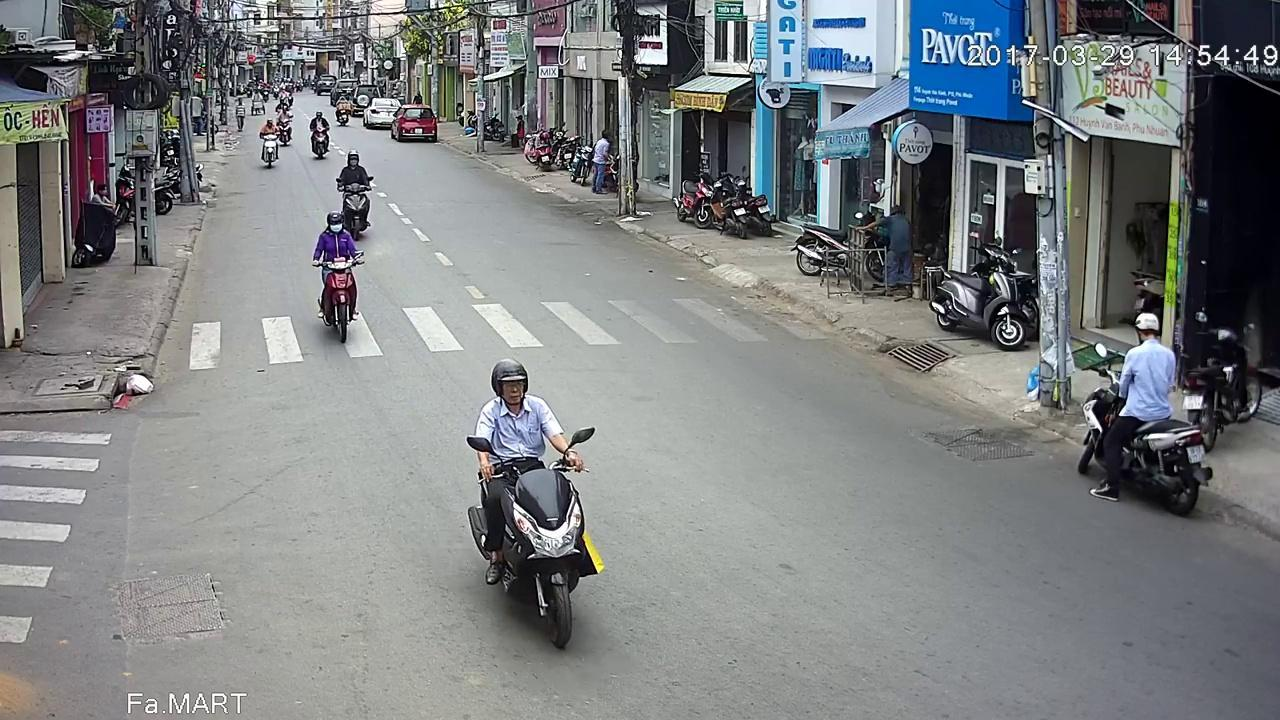xe hoi: (393, 102, 439, 139)
xe may: (466, 362, 598, 654), (1074, 312, 1209, 516), (308, 213, 362, 347), (335, 153, 374, 245), (258, 115, 280, 164), (309, 111, 331, 160), (276, 104, 293, 146)
